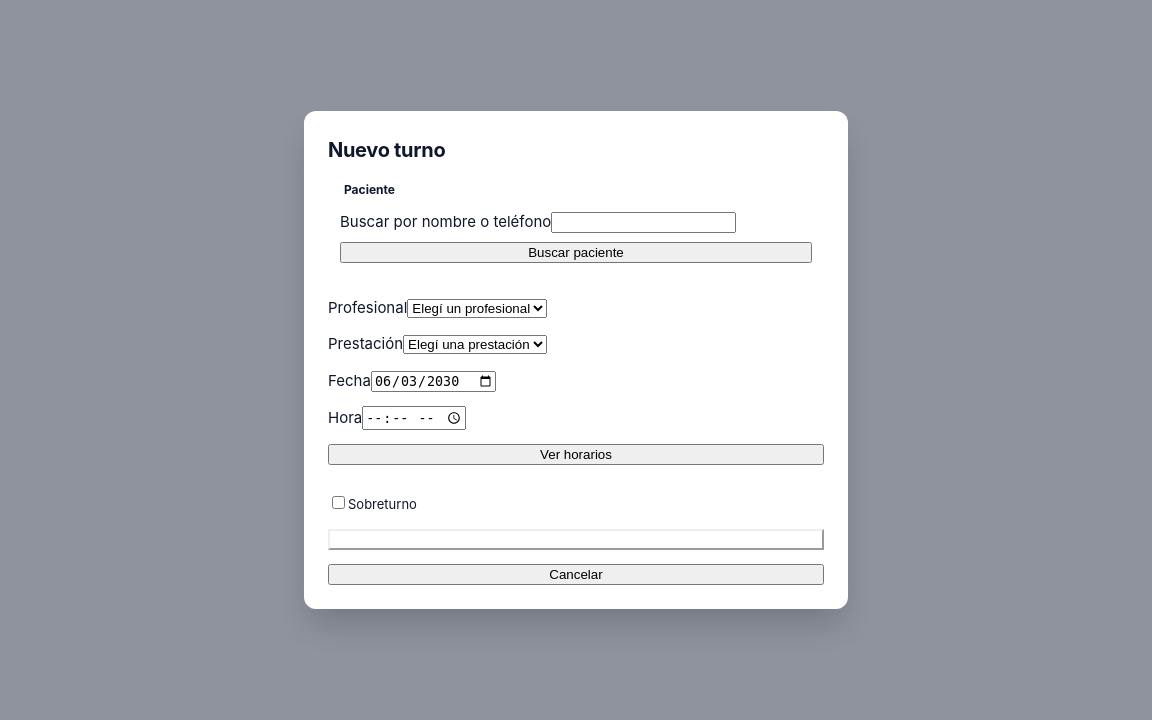
Test: alta interna de turno › exige motivo cuando es sobreturno
Type "Paciente" into the search field labelled "Buscar por nombre o teléfono".
click(644, 223); type("Paciente")  # box [551,212,736,233]
Click the button "Buscar paciente".
click(576, 252)  # box [340,242,812,263]
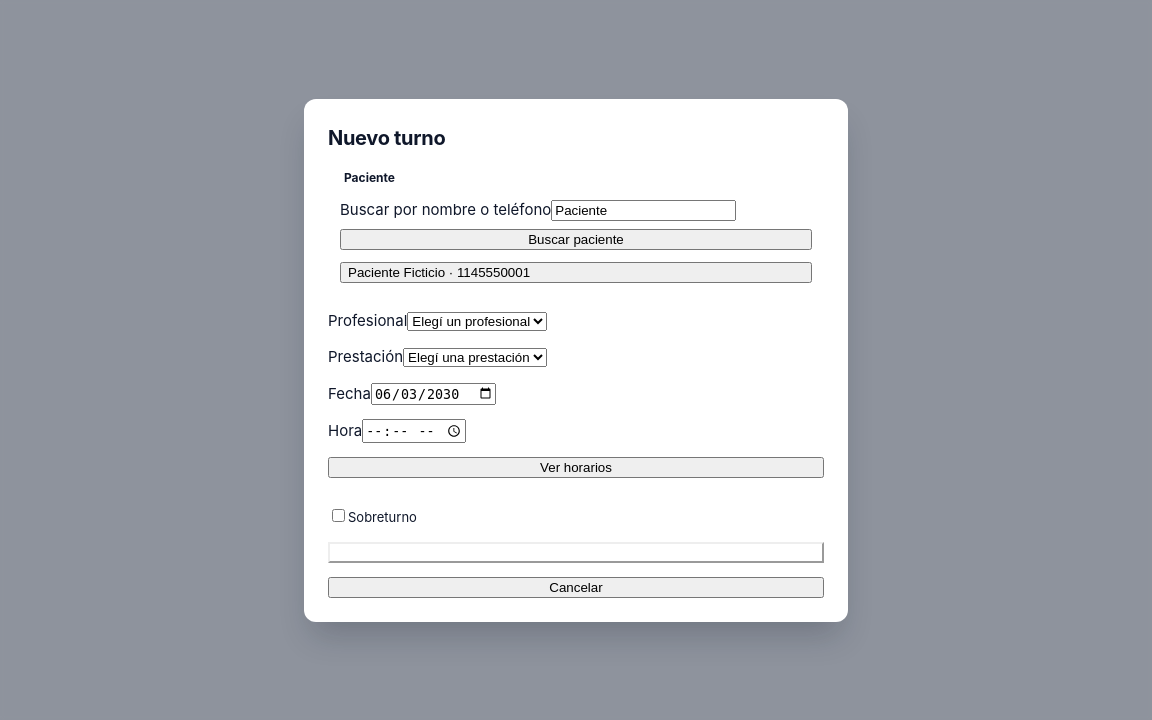
Click the button "Paciente Ficticio · 1145550001".
click(397, 272)  # box [340,262,812,283]
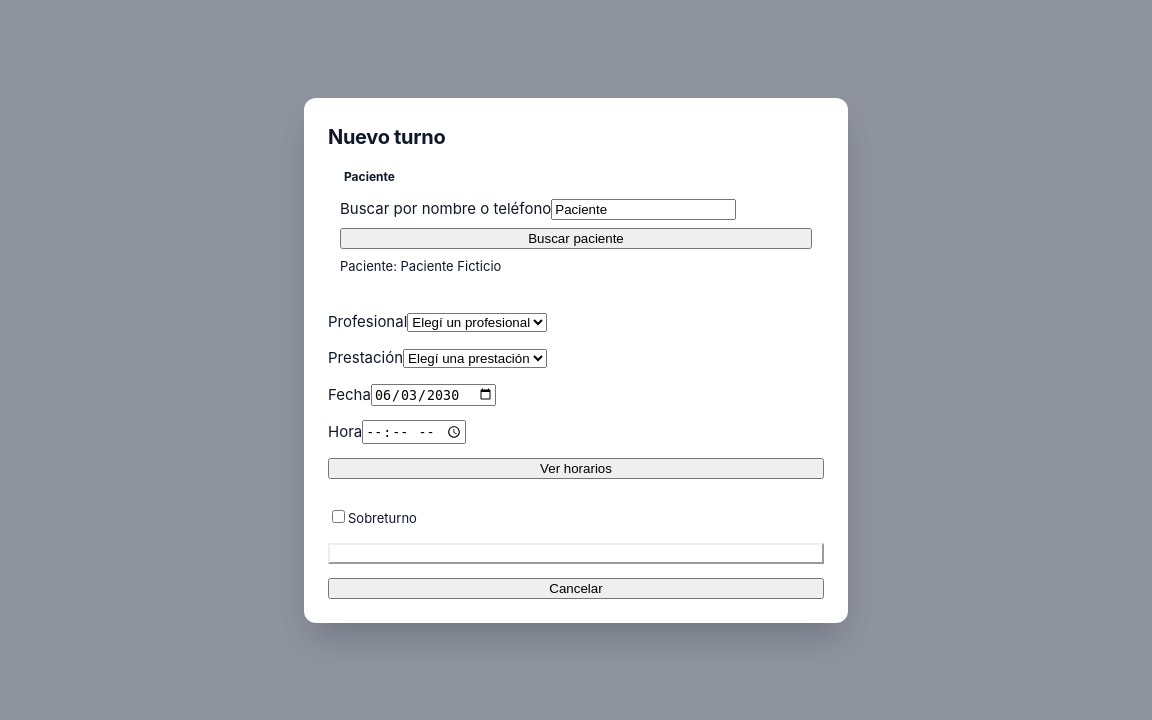
Select "Dra. Martina" in the dropdown labelled "Profesional" at x=477, y=322, box [407,312,547,332]
Select "Consulta (30 min)" in the dropdown labelled "Prestación" at x=475, y=358, box [403,349,547,368]
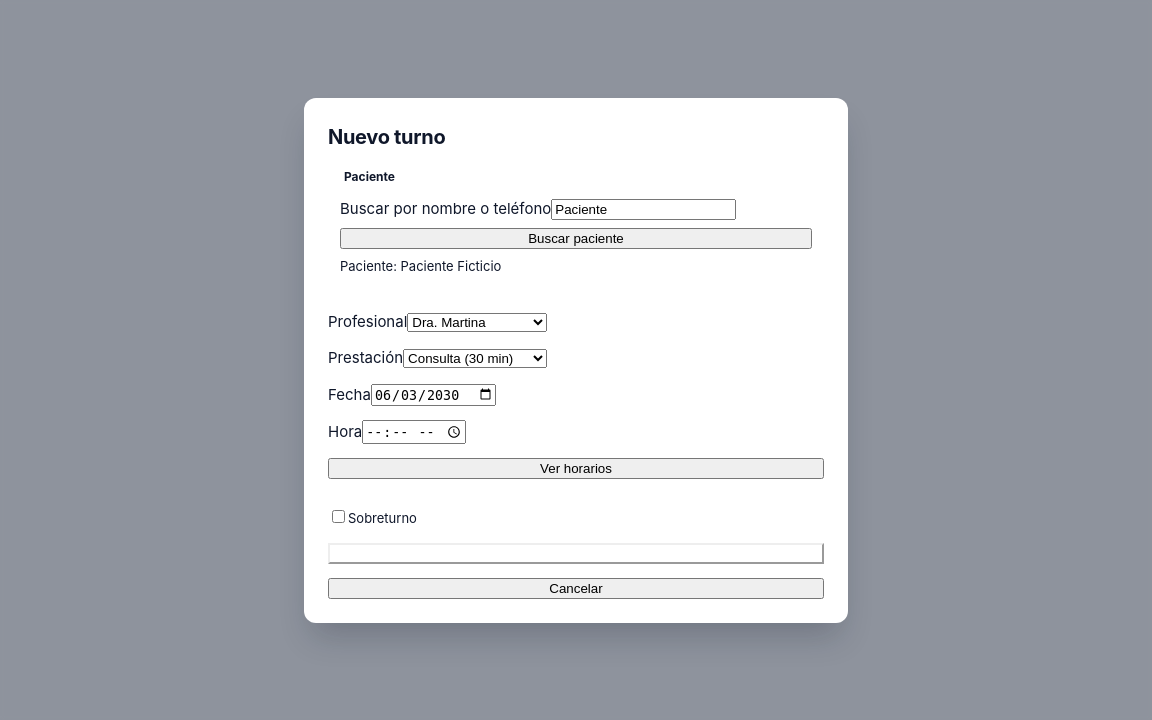
Type "10:30" into the time field labelled "Hora".
click(414, 432); type("10:30")  # box [362,420,466,444]
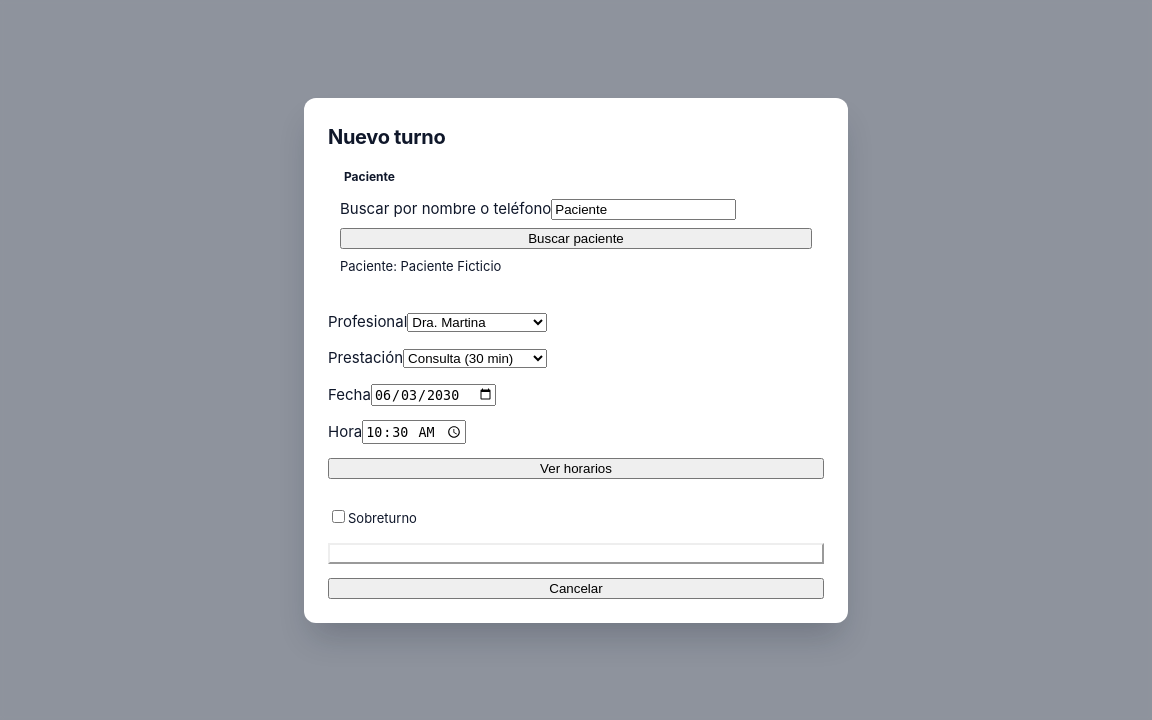
Click the checkbox labelled "Sobreturno".
click(338, 516)  # box [332,510,345,523]
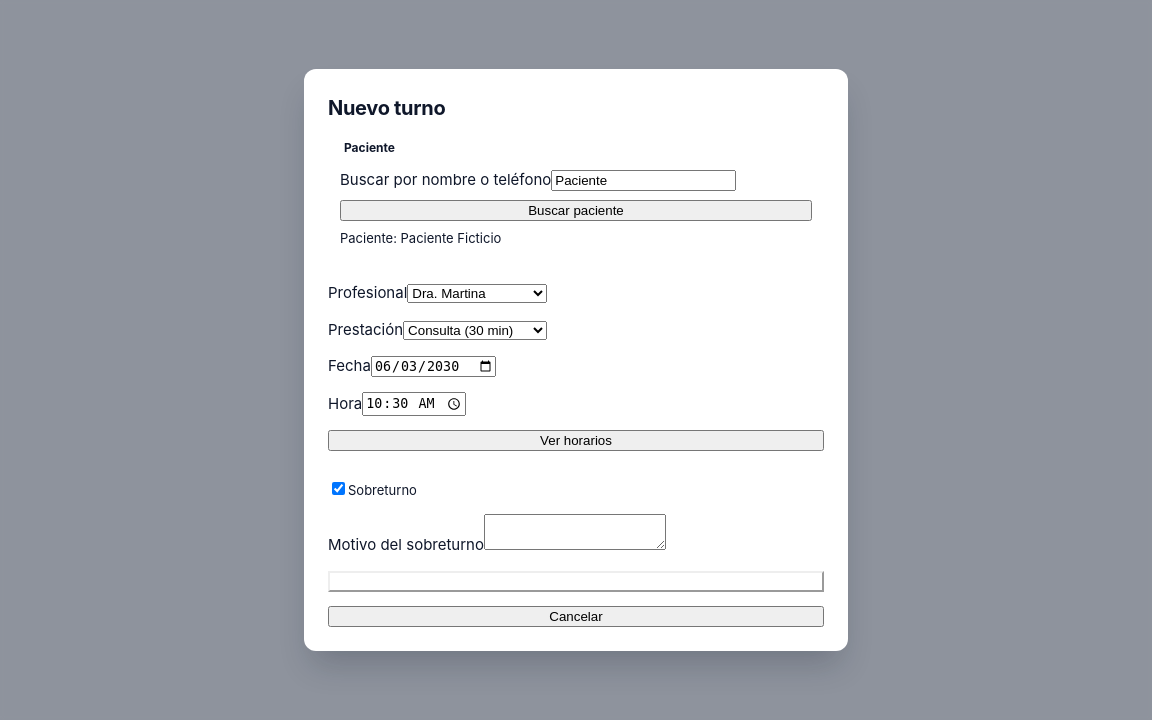
Click the button "Crear turno".
click(576, 581)  # box [328,571,824,592]
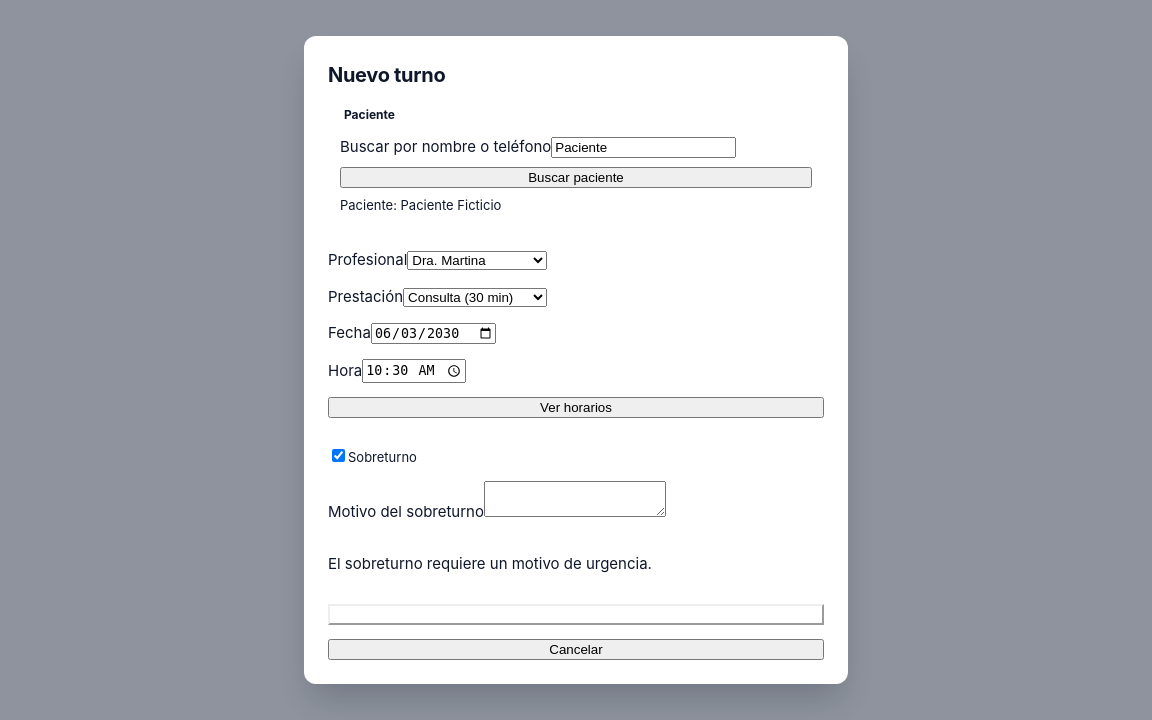
Expected: the text "El sobreturno requiere un motivo de urgencia." is shown, [328,554,652,572]
